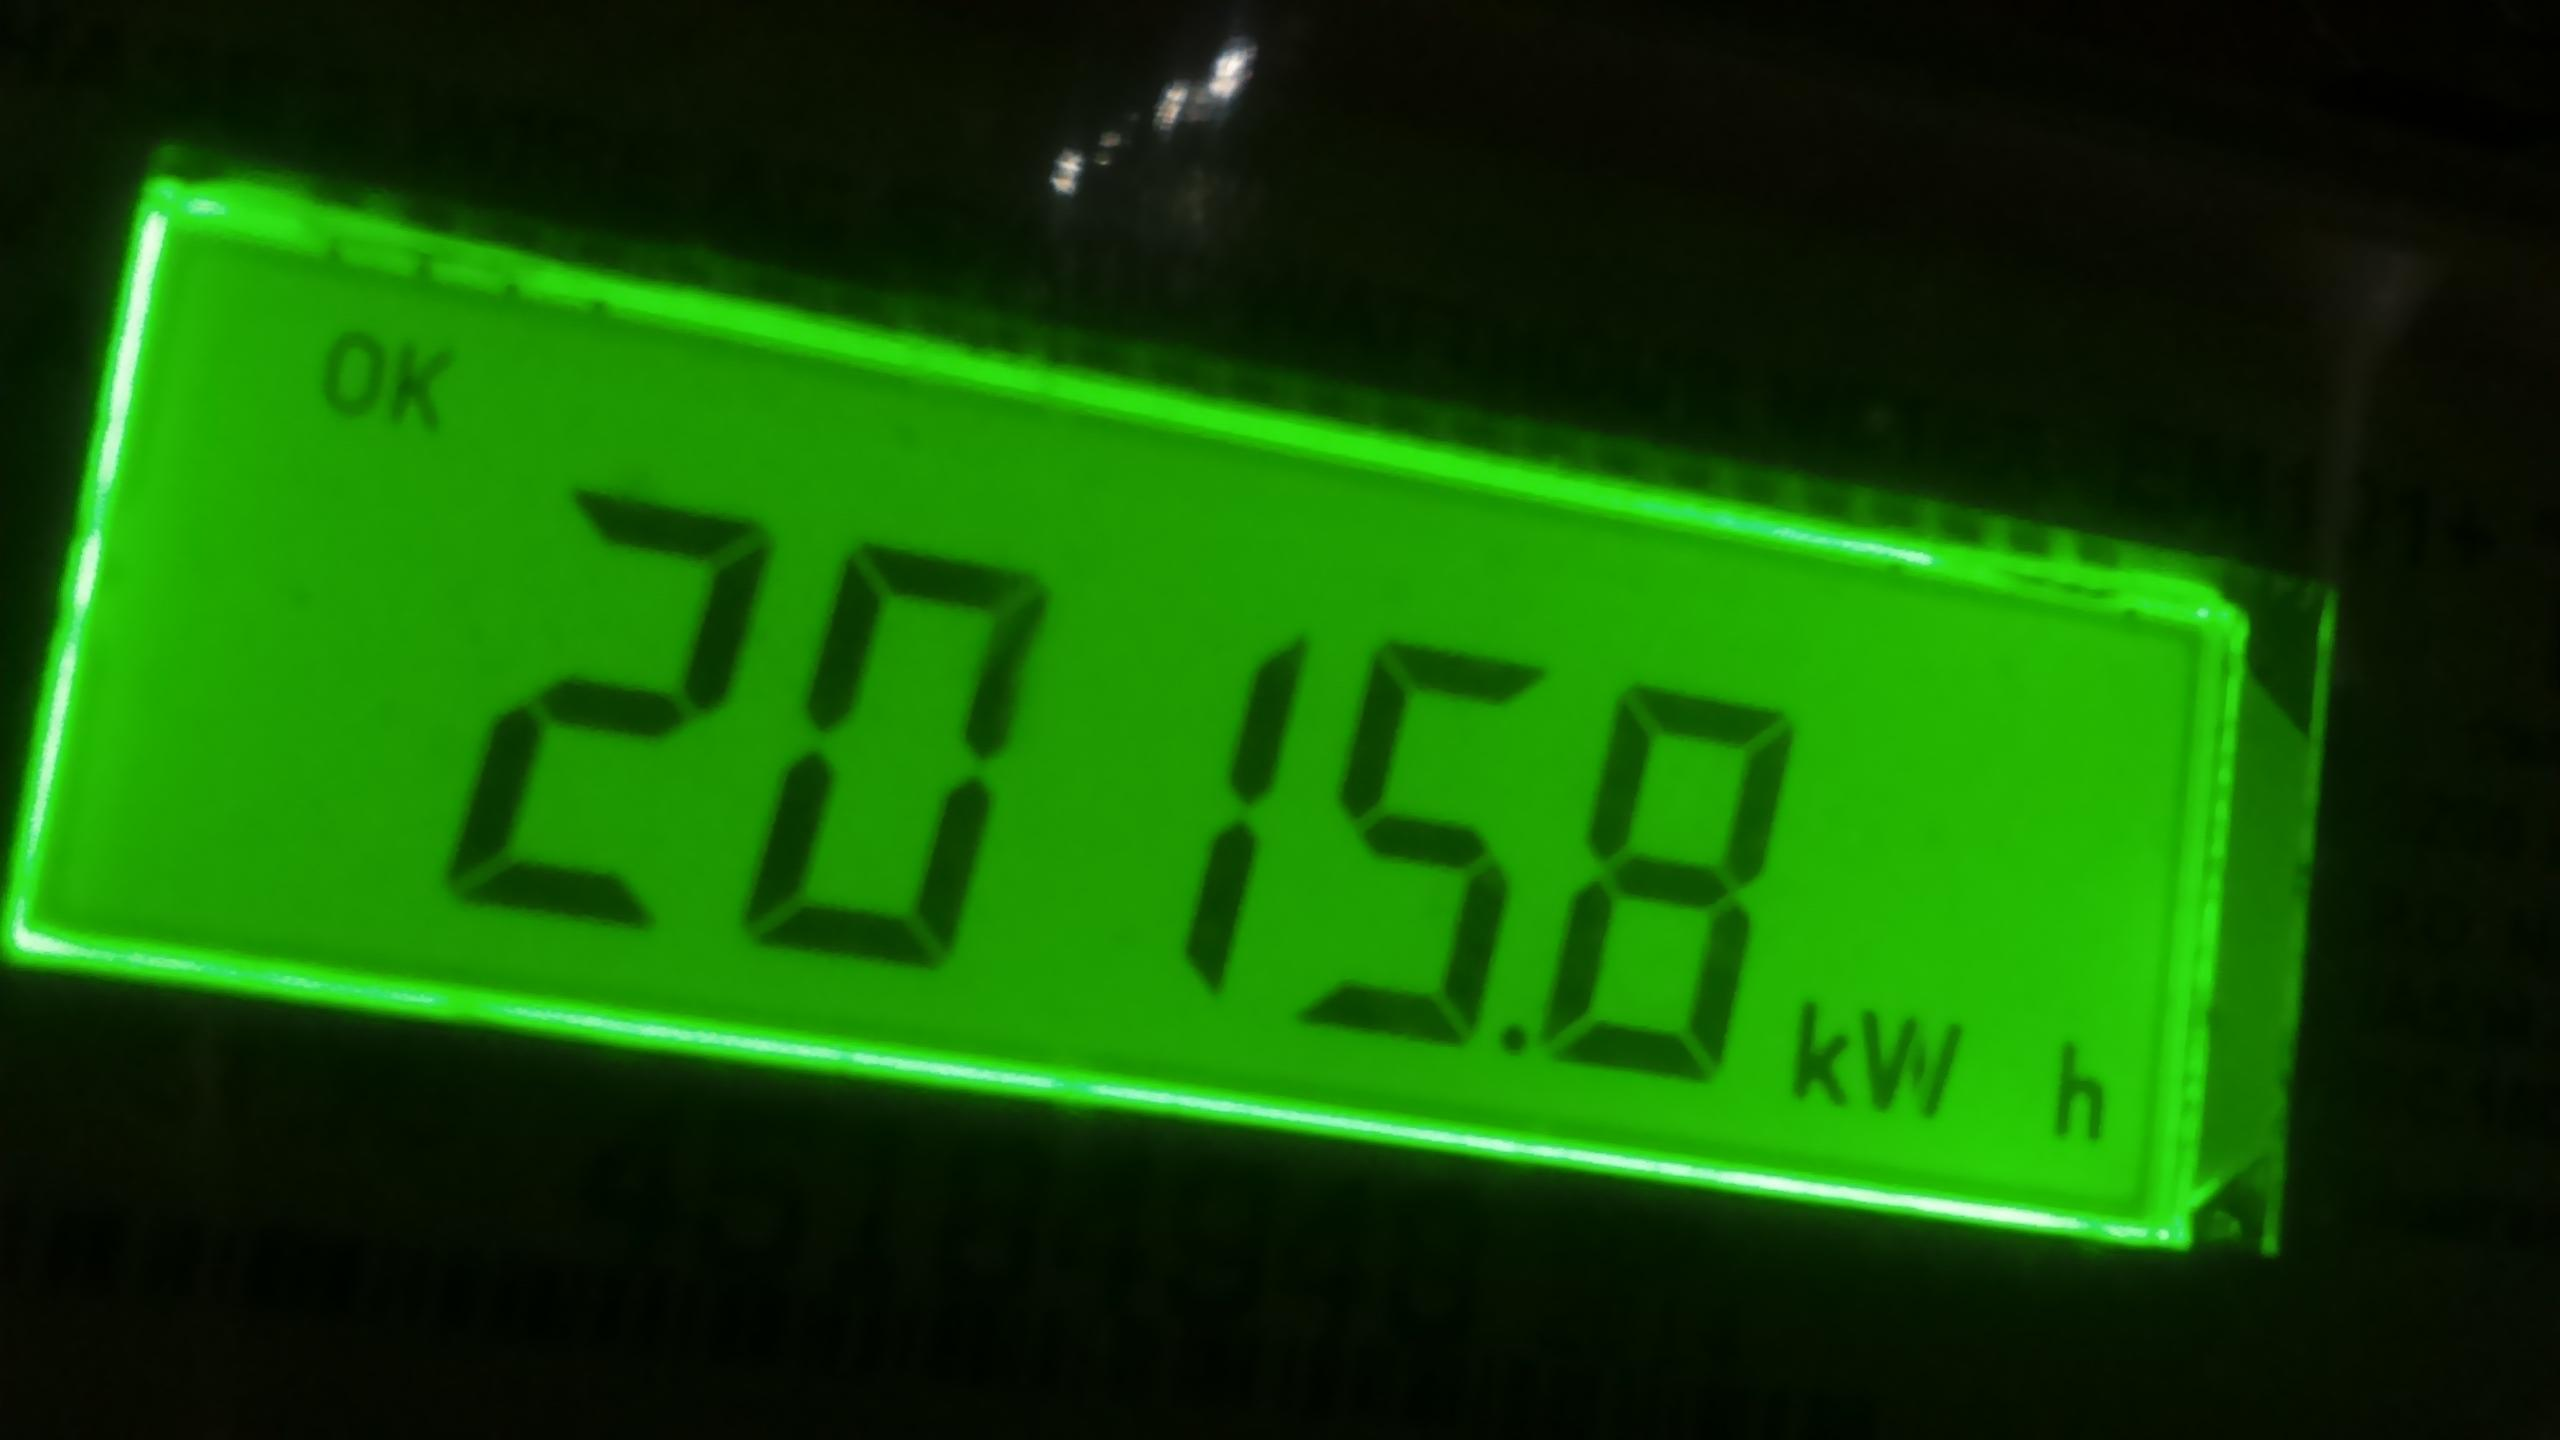.: (1758, 993, 2143, 1175)
0: (1454, 1004, 1588, 1102)
1: (761, 473, 1078, 1025)
2: (1162, 573, 1354, 1039)
3: (352, 424, 802, 992)
6: (1294, 614, 1582, 1076)
9: (1535, 649, 1827, 1095)
